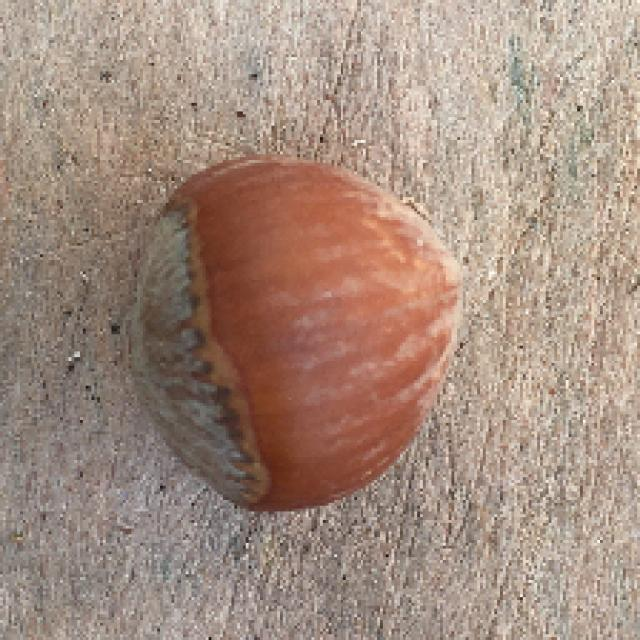QualityHazelnut: (131, 151, 470, 513)
